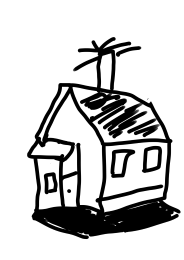door: (54, 172, 88, 209)
open_window: (107, 146, 137, 182), (141, 143, 167, 178)
roof: (15, 74, 175, 148)
shadow: (23, 197, 180, 245)
smoking_chimney: (70, 24, 144, 91)
wall: (82, 137, 183, 201)
